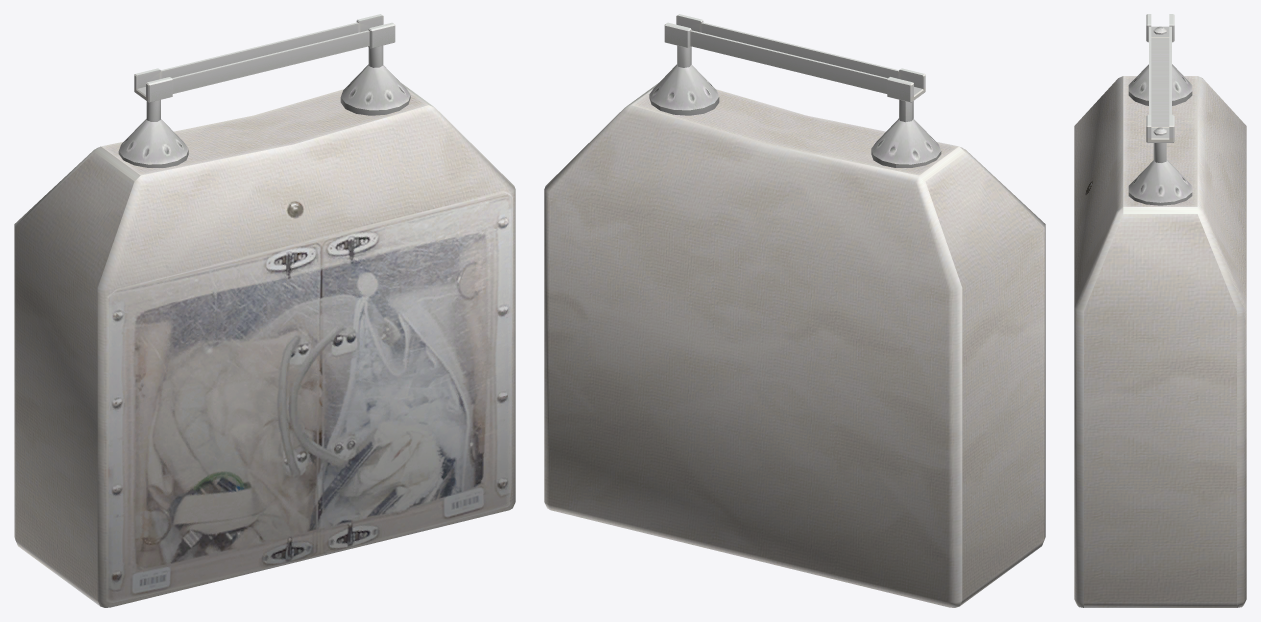
File: SM_PropClearBox.fbx
3 views of the same model, side by side, from view 1: azimuth 30°, elevation 25°; view 2: azimuth 150°, elevation 25°; view 3: azimuth 270°, elevation 25° (orthographic). The views are drawn at different scales.
Parts seen in each view (by area): view 1: Object_2.001; view 2: Object_2.001; view 3: Object_2.001.
Part boxes in pixels (x1,y1,x2,y2): Object_2.001: [14, 14, 515, 607]; Object_2.001: [544, 14, 1045, 607]; Object_2.001: [1074, 14, 1246, 607].
Bounding box in the file's own units: 2.7 × 2.98 × 1.04.
1 material, 1 textured.
